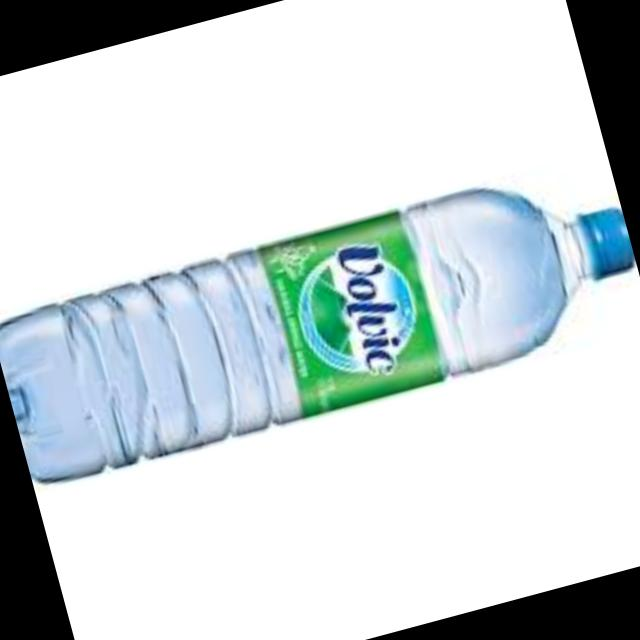plastic: (0, 183, 634, 474)
